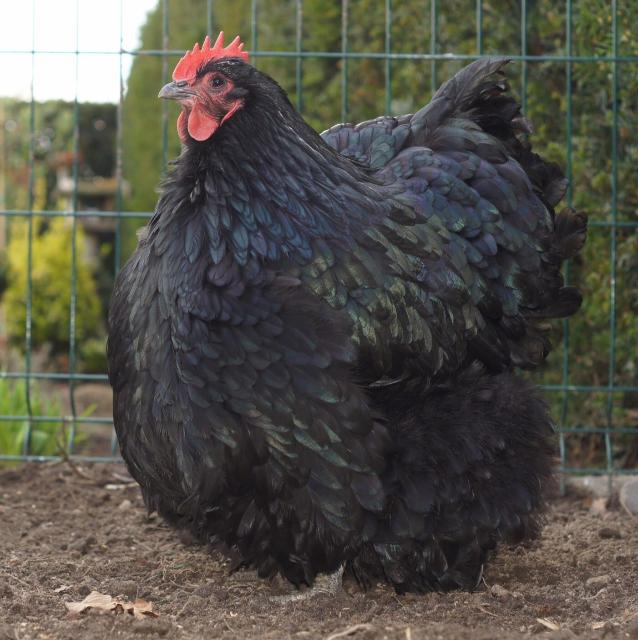Chicken: (106, 33, 590, 600)
